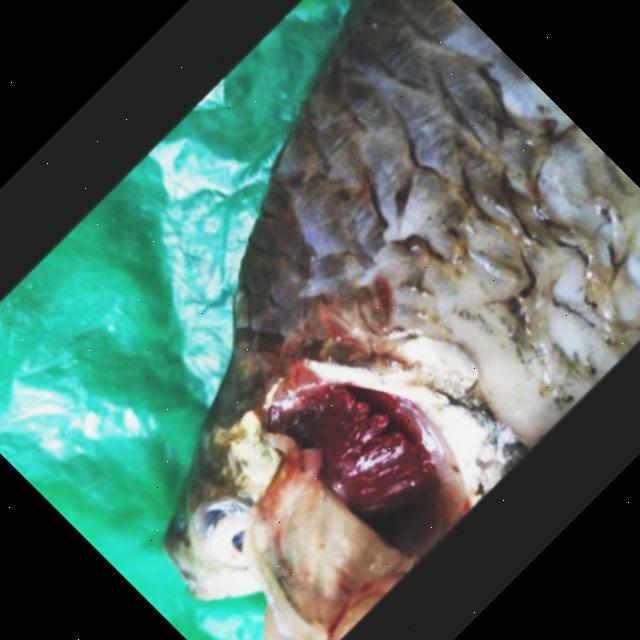Flavobacterium -Bacterial Gill Disease-: (163, 0, 640, 640)
